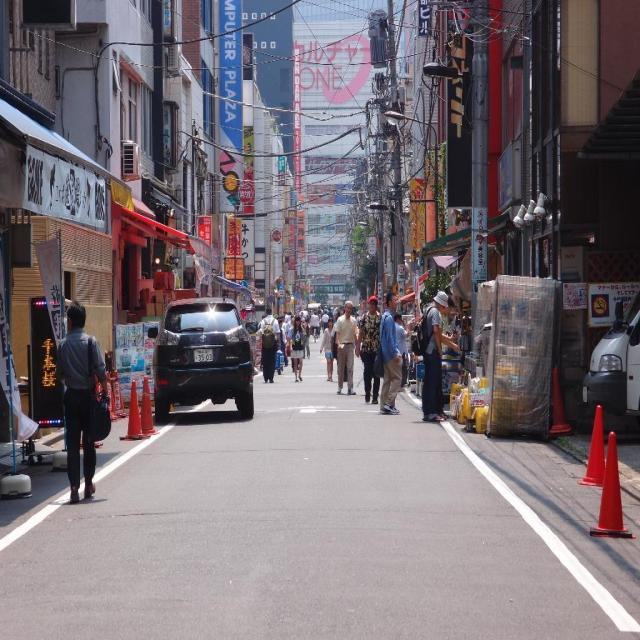car: (145, 297, 256, 415)
